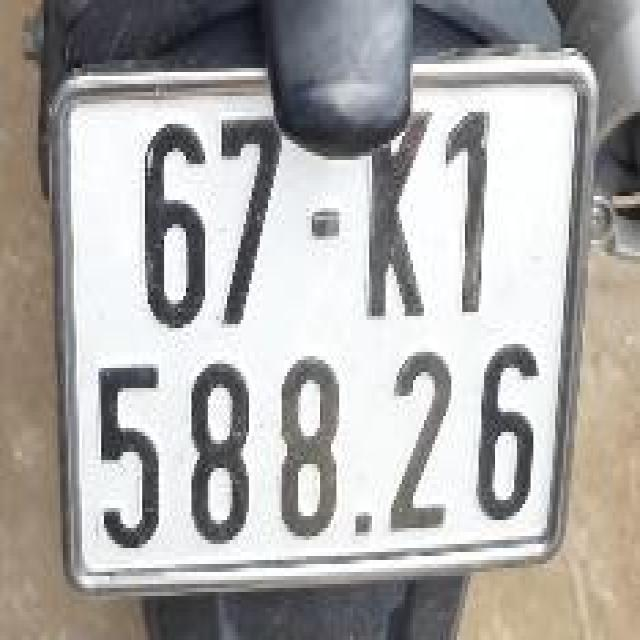1: (439, 100, 496, 328)
2: (387, 344, 461, 544)
5: (85, 348, 178, 568)
6: (130, 108, 220, 336), (469, 330, 540, 530)
7: (220, 110, 283, 334)
8: (269, 348, 346, 560), (187, 352, 253, 552)
K: (361, 78, 435, 330)
